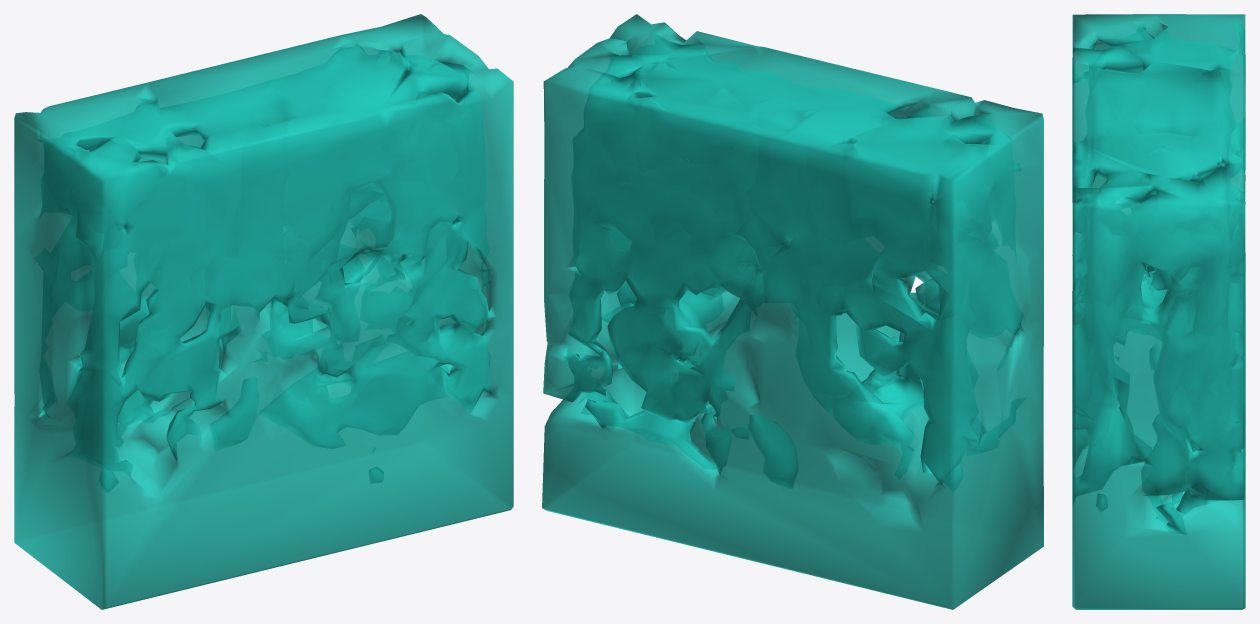
The picture shows the model from 3 angles, left to right: view 1: azimuth 30°, elevation 25°; view 2: azimuth 150°, elevation 25°; view 3: azimuth 270°, elevation 25°; orthographic projection. The views are drawn at different scales.
Parts seen in each view (by area): view 1: Liquid_Domain; view 2: Liquid_Domain; view 3: Liquid_Domain.
Part boxes in pixels (x1=…): Liquid_Domain: x1=14, y1=14, x2=513, y2=609; Liquid_Domain: x1=542, y1=14, x2=1043, y2=609; Liquid_Domain: x1=1072, y1=14, x2=1245, y2=609.
Size of the model in its own units: 1948 by 1949 by 748.
